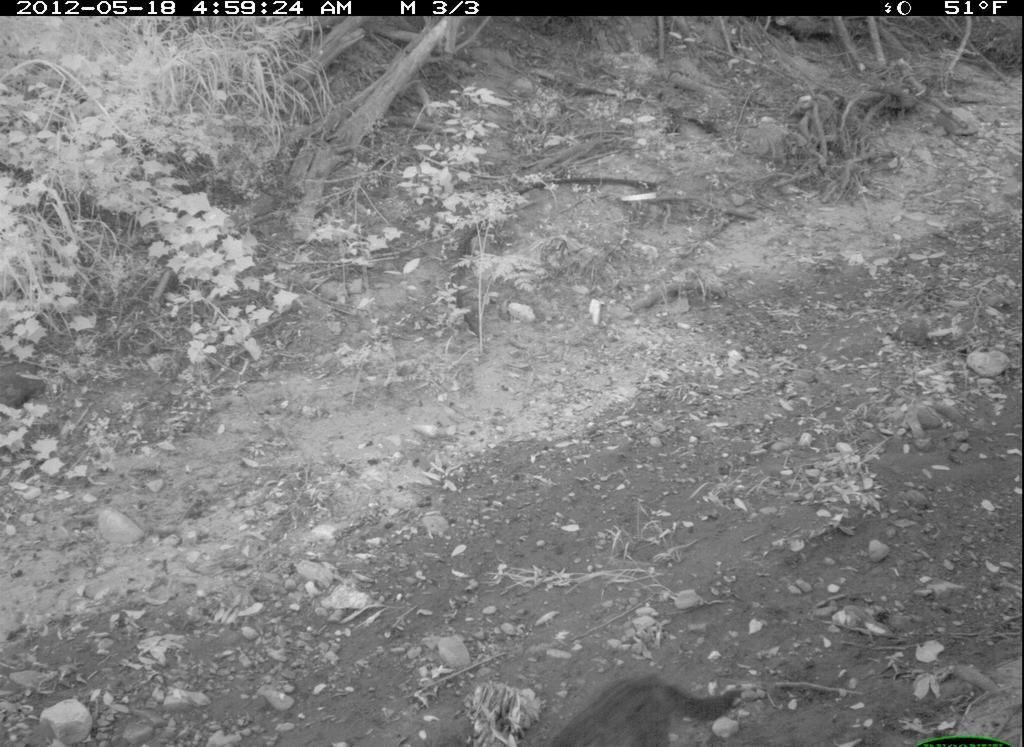cat: (534, 666, 754, 747)
